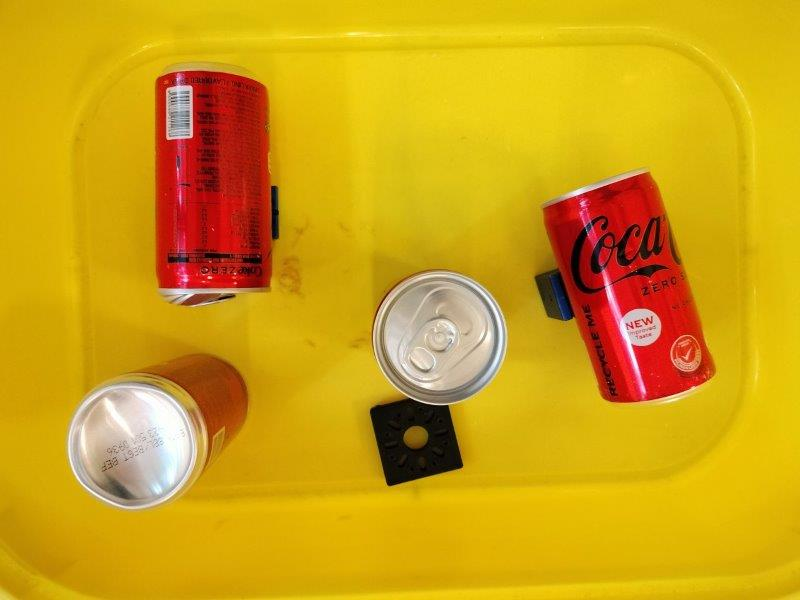Coke: (542, 166, 718, 405), (65, 352, 249, 512), (154, 61, 274, 292), (371, 269, 507, 406)
